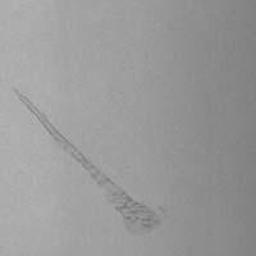Water spot: (13, 88, 168, 236)
